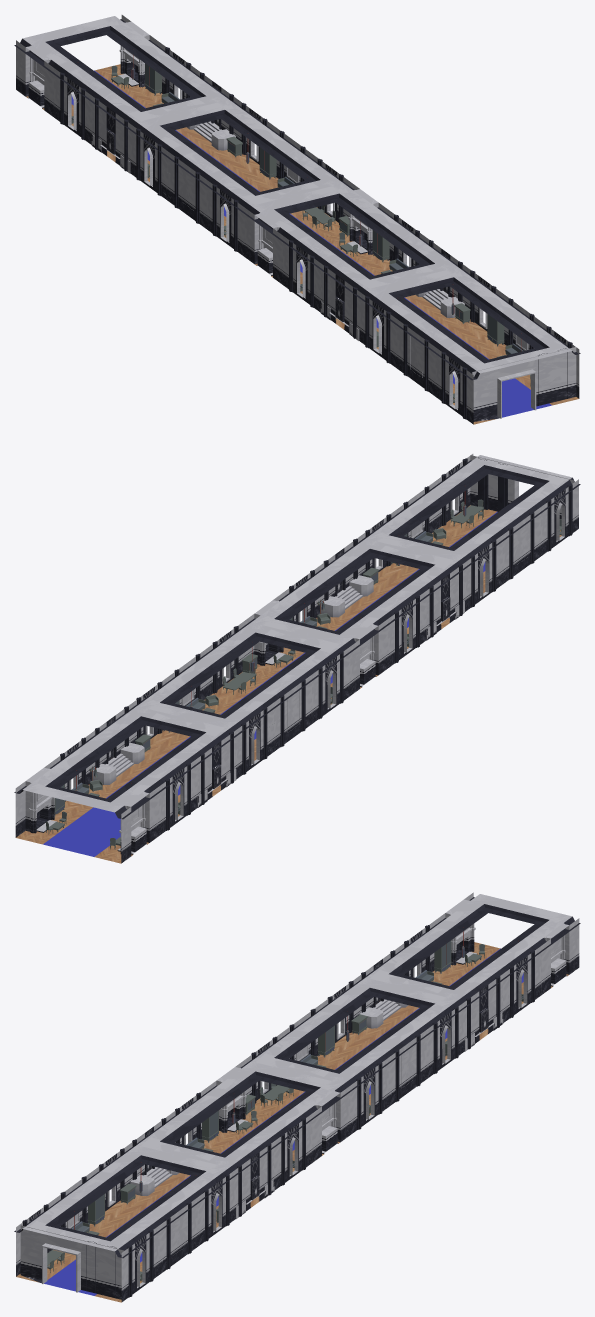
The model's file is AdrienMansion_Livingroom.fbx.
The picture shows the model from 3 angles, top to bottom: view 1: azimuth 30°, elevation 25°; view 2: azimuth 150°, elevation 25°; view 3: azimuth 330°, elevation 25°; orthographic projection.
Parts seen in each view (by area): view 1: AdrienMansion_livingRoom; view 2: AdrienMansion_livingRoom; view 3: AdrienMansion_livingRoom.
Boxes of the visible parts, x1=… form: AdrienMansion_livingRoom: x1=14, y1=15, x2=580, y2=424; AdrienMansion_livingRoom: x1=14, y1=454, x2=580, y2=863; AdrienMansion_livingRoom: x1=14, y1=892, x2=580, y2=1302.
Size of the model in its own units: 8342 by 3682 by 60081.
